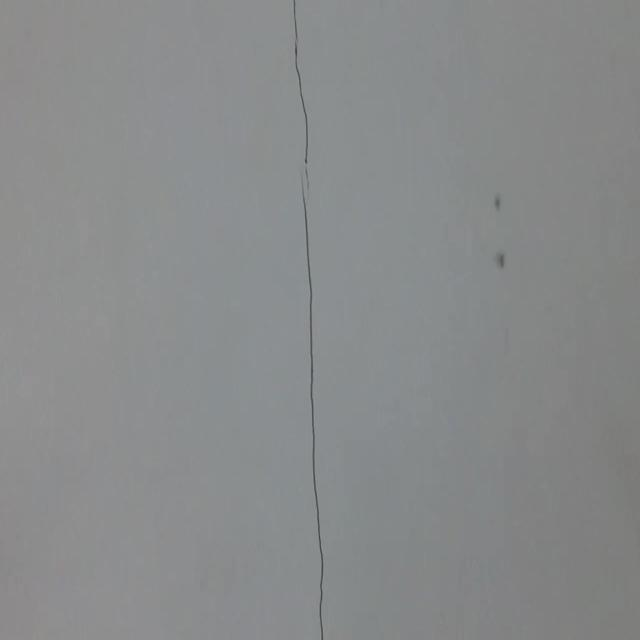Crack: (280, 0, 349, 640)
